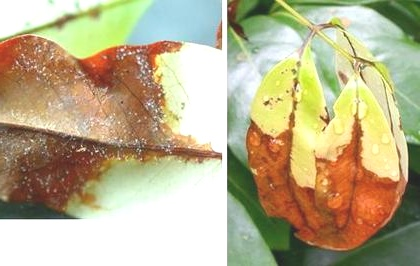Frost_Blight: (2, 30, 166, 199), (244, 94, 408, 248)
